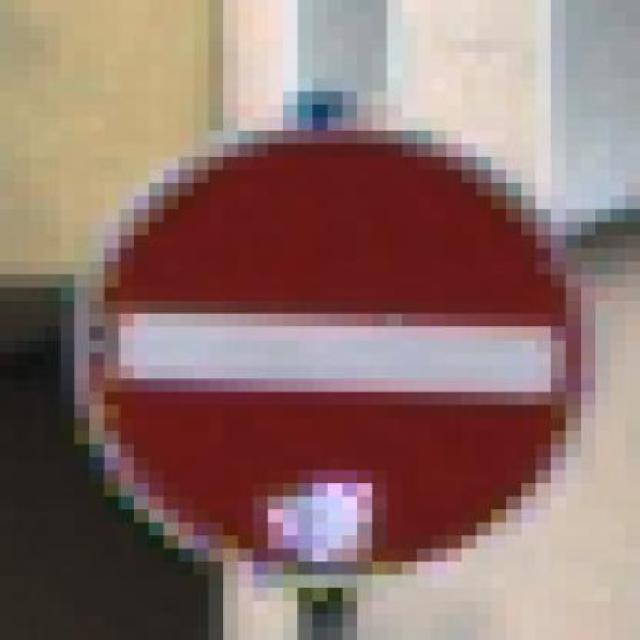No Entry: (45, 78, 610, 588)
